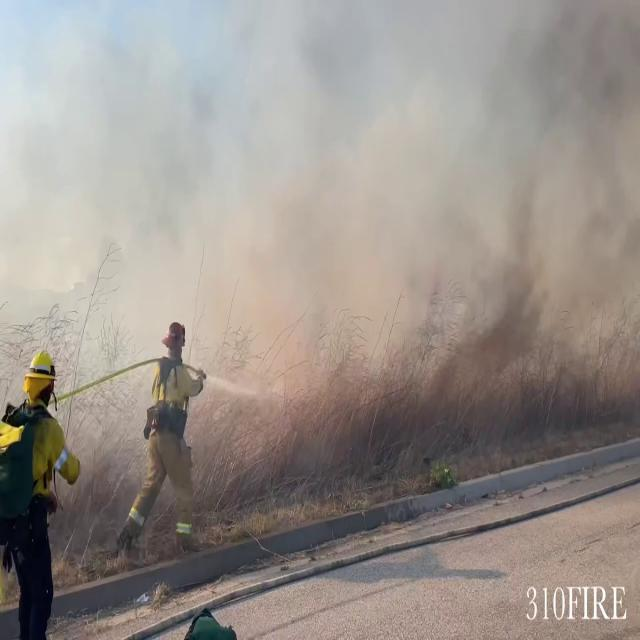Smoke: (441, 1, 640, 402)
